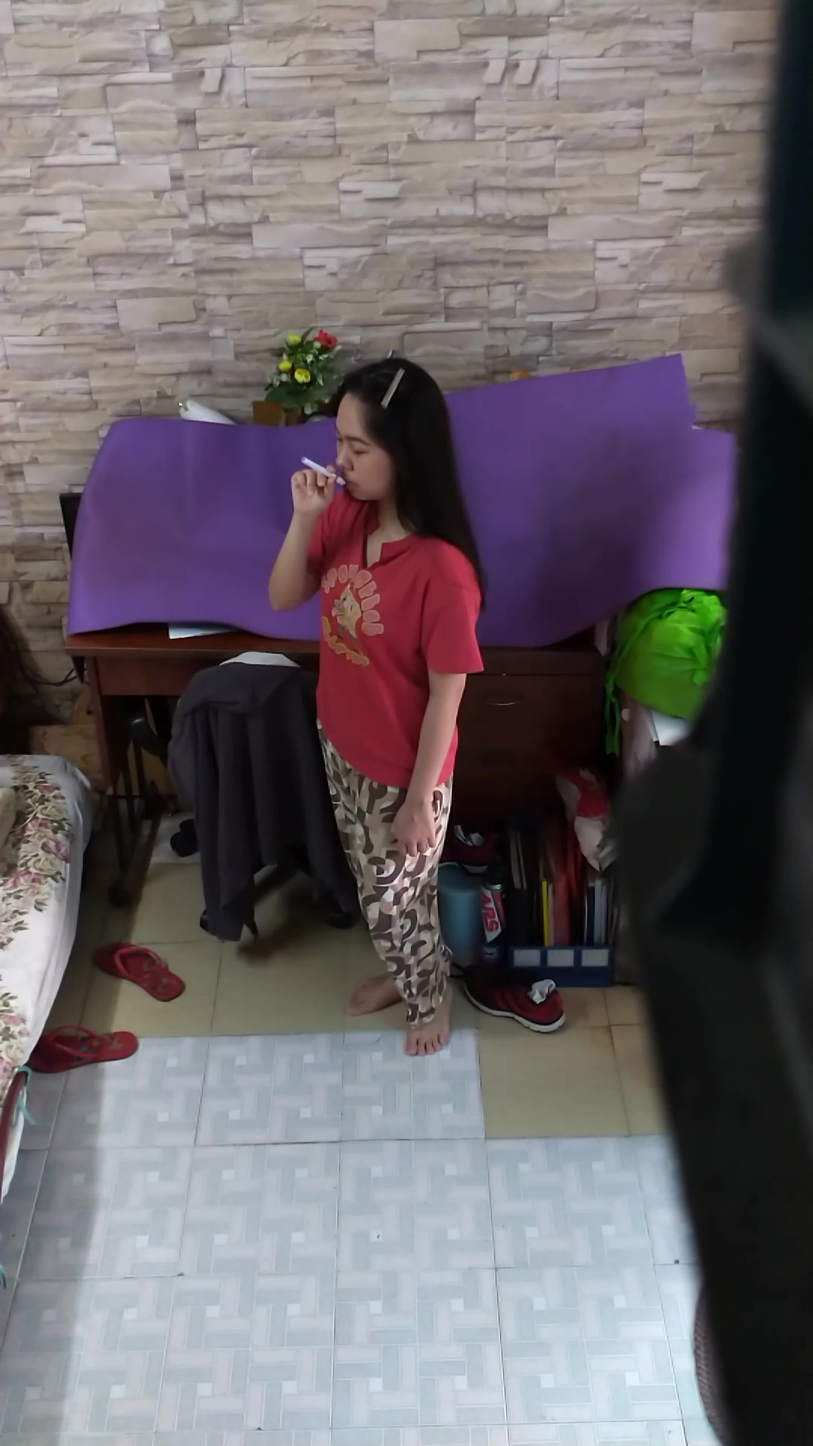cigarette: (298, 453, 330, 478)
person: (269, 353, 487, 1048)
